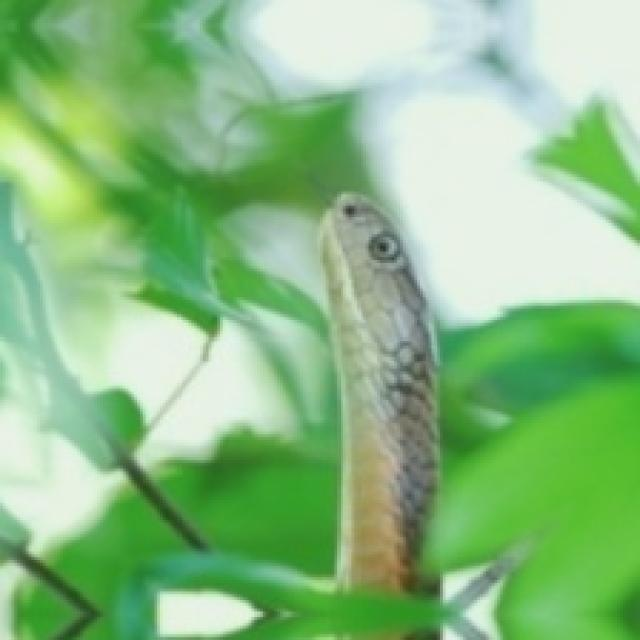king cobra: (320, 194, 437, 594)
